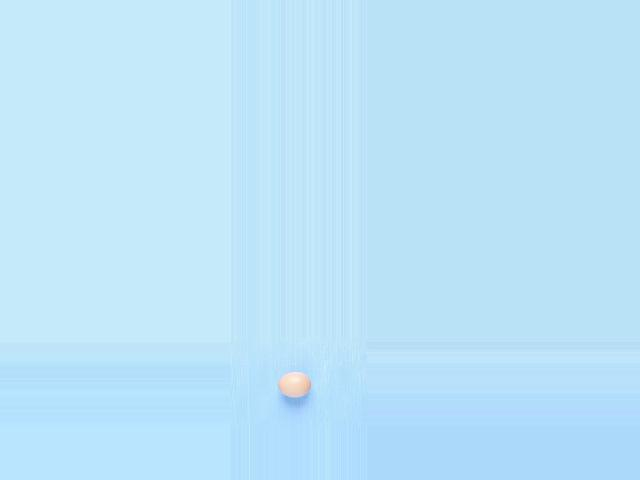egg: (278, 371, 310, 398)
